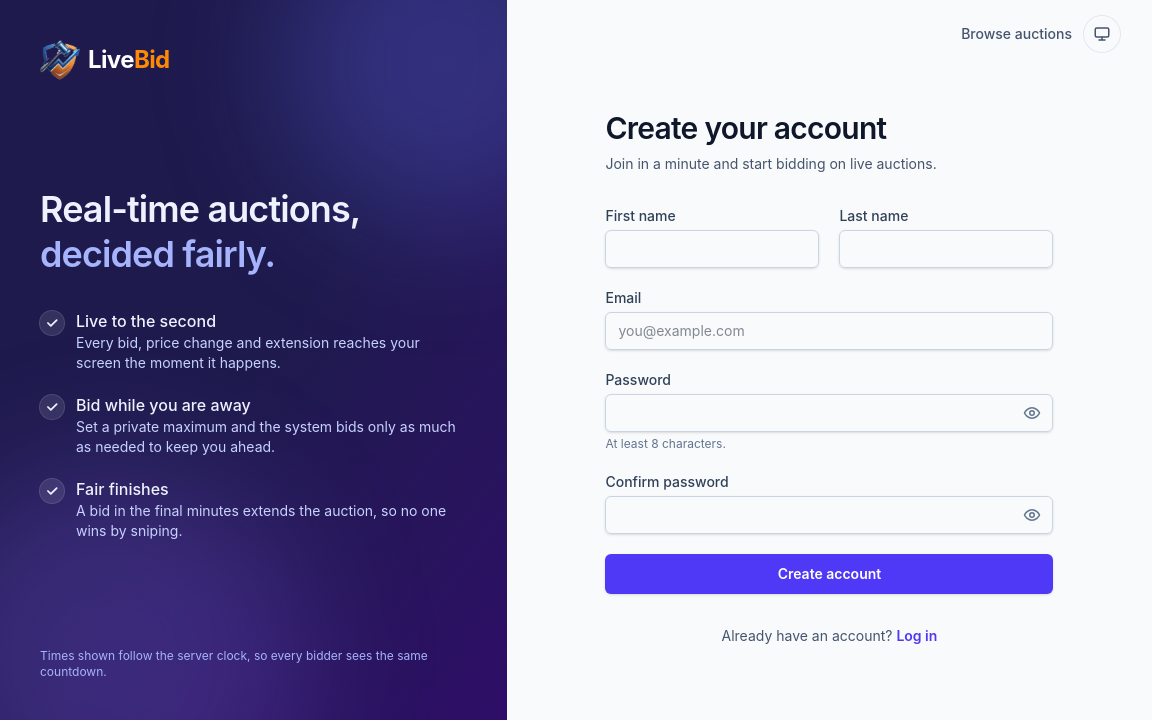
Scenario: <RegisterPage> › shows a strength guide while typing the password
Step 1. Type "Abcdefghij1!" into the password field labelled "Password" → (829, 413), box x1=605 y1=394 x2=1053 y2=432
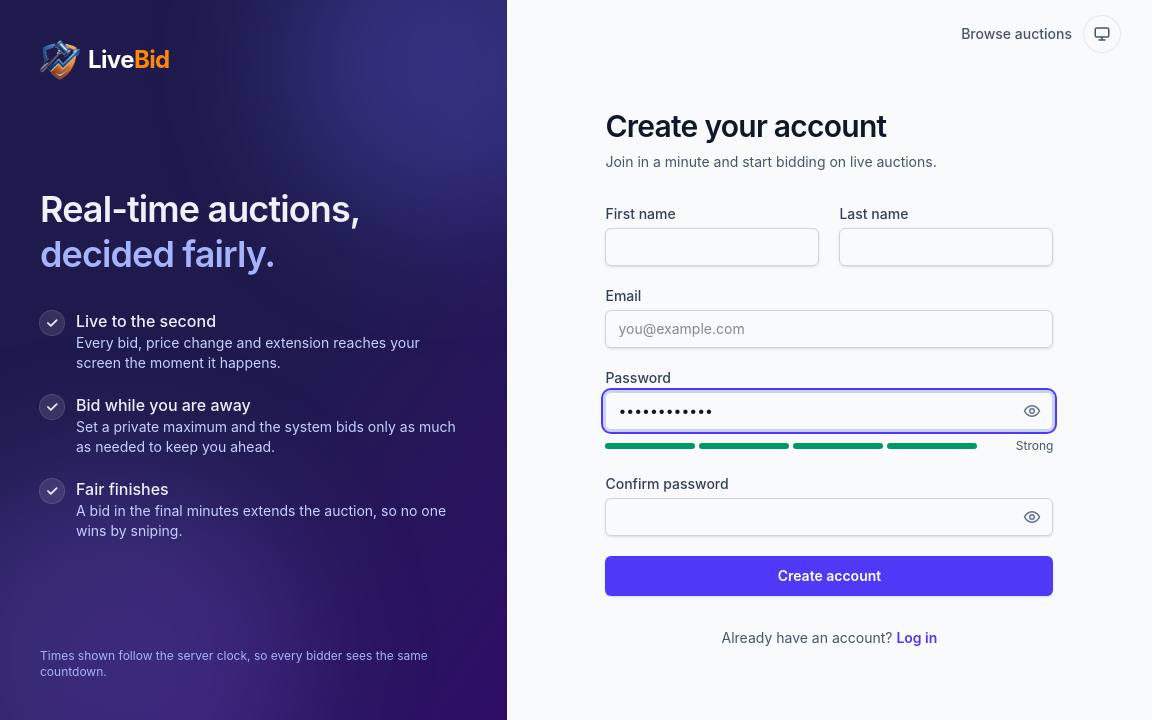
Now the text "Strong" is shown, box x1=1016 y1=438 x2=1053 y2=453
